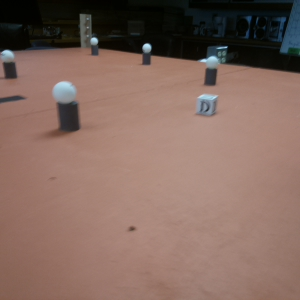obstacle: (55, 80, 80, 131), (203, 57, 218, 85), (2, 50, 17, 78), (142, 43, 151, 64), (91, 35, 98, 54)
